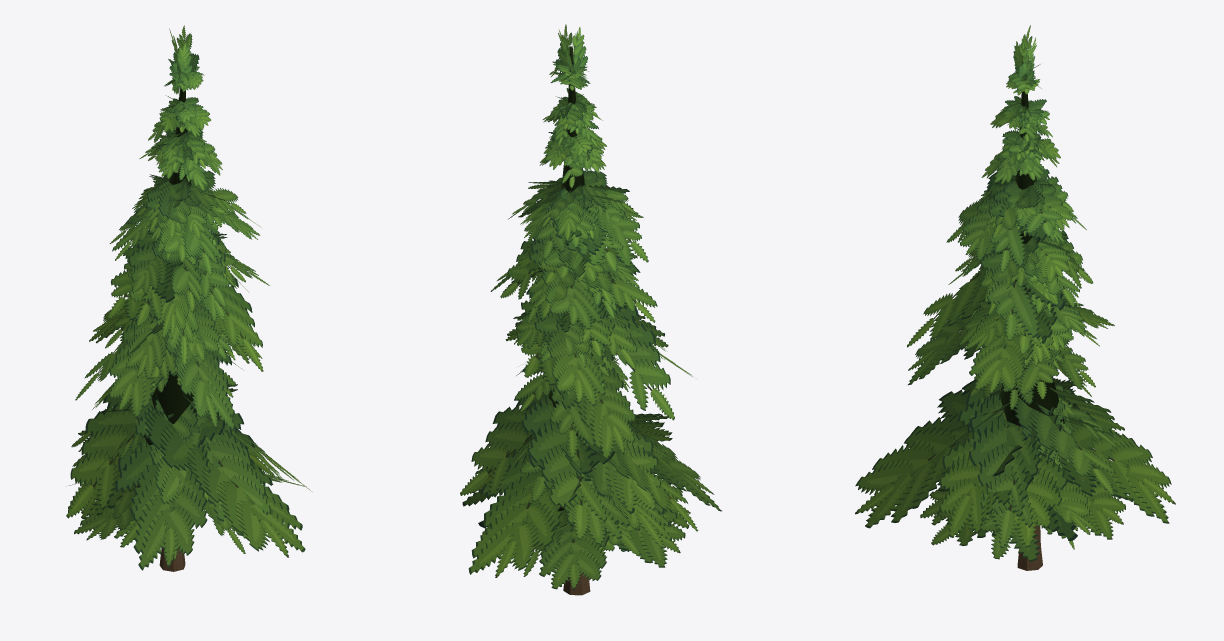
The model's file is fir4_b.glb.
3 renders of one model, left to right at view 1: azimuth 30°, elevation 25°; view 2: azimuth 150°, elevation 25°; view 3: azimuth 270°, elevation 25°, orthographic. The views are drawn at different scales.
Visible parts, largest first — view 1: fir4_b; view 2: fir4_b; view 3: fir4_b.
Part boxes in pixels (x1=…): fir4_b: x1=66, y1=25, x2=311, y2=571; fir4_b: x1=460, y1=24, x2=721, y2=595; fir4_b: x1=855, y1=25, x2=1175, y2=570.
Bounding box in the file's own units: 4.67 × 8.15 × 5.47.
Materials: 2 (2 with a texture image).
